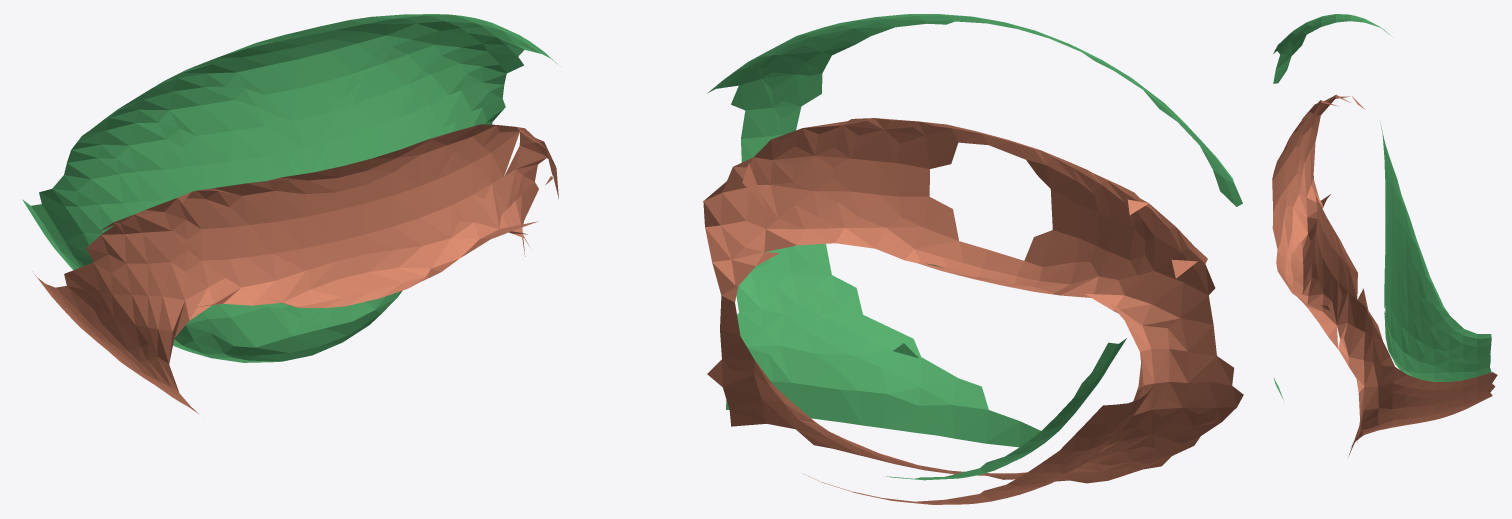
The model's file is 02_anticline.glb.
The picture shows the model from 3 angles, left to right: view 1: azimuth 30°, elevation 25°; view 2: azimuth 150°, elevation 25°; view 3: azimuth 270°, elevation 25°; orthographic projection. The views are drawn at different scales.
Visible parts, largest first — view 1: bottom, top; view 2: top, bottom; view 3: top, bottom.
Part boxes in pixels (x1,y1,x2,y2): bottom: [22, 14, 560, 362]; top: [32, 124, 558, 413]; top: [703, 118, 1243, 504]; bottom: [707, 14, 1242, 480]; top: [1272, 94, 1497, 457]; bottom: [1273, 14, 1491, 402].
Bounding box in the file's own units: 2000 × 1769 × 998.
